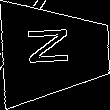N_E: (30, 31, 81, 73)
